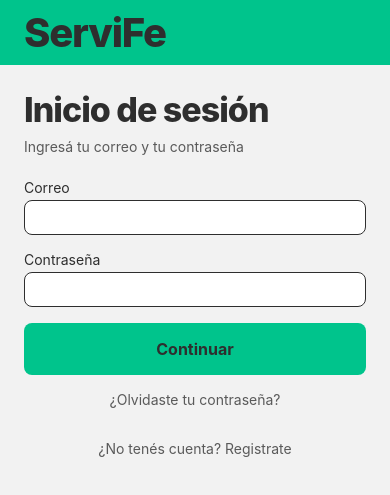
Test: IngresarScreen › los errores de validación van debajo de cada campo
Type "x" into the field named "Correo".
click(195, 218); type("x")  # box [41, 201, 349, 234]
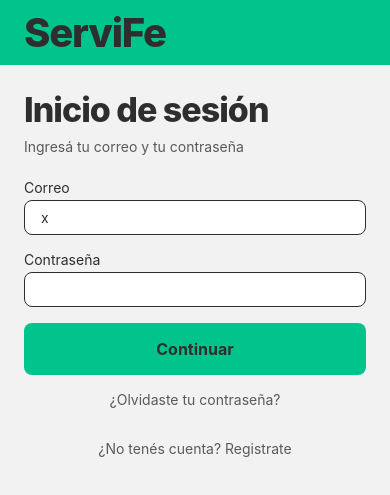
Type "Clave123" into the password field named "Contraseña".
click(195, 290); type("Clave123")  # box [41, 273, 349, 306]
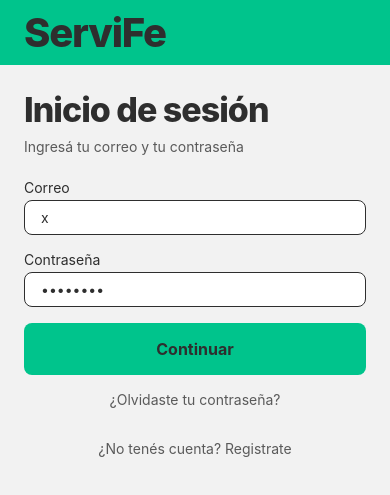
Click the button "Continuar".
click(195, 349)  # box [24, 323, 366, 375]
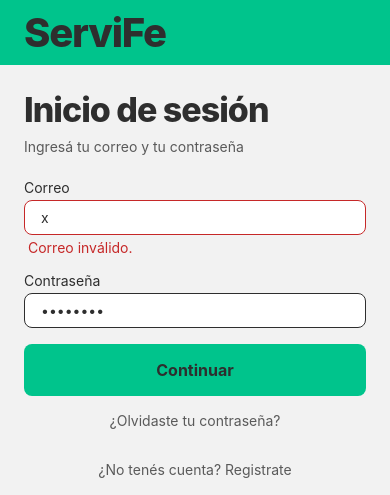
Expected: the text "Correo inválido." is shown, [28, 239, 132, 256]
